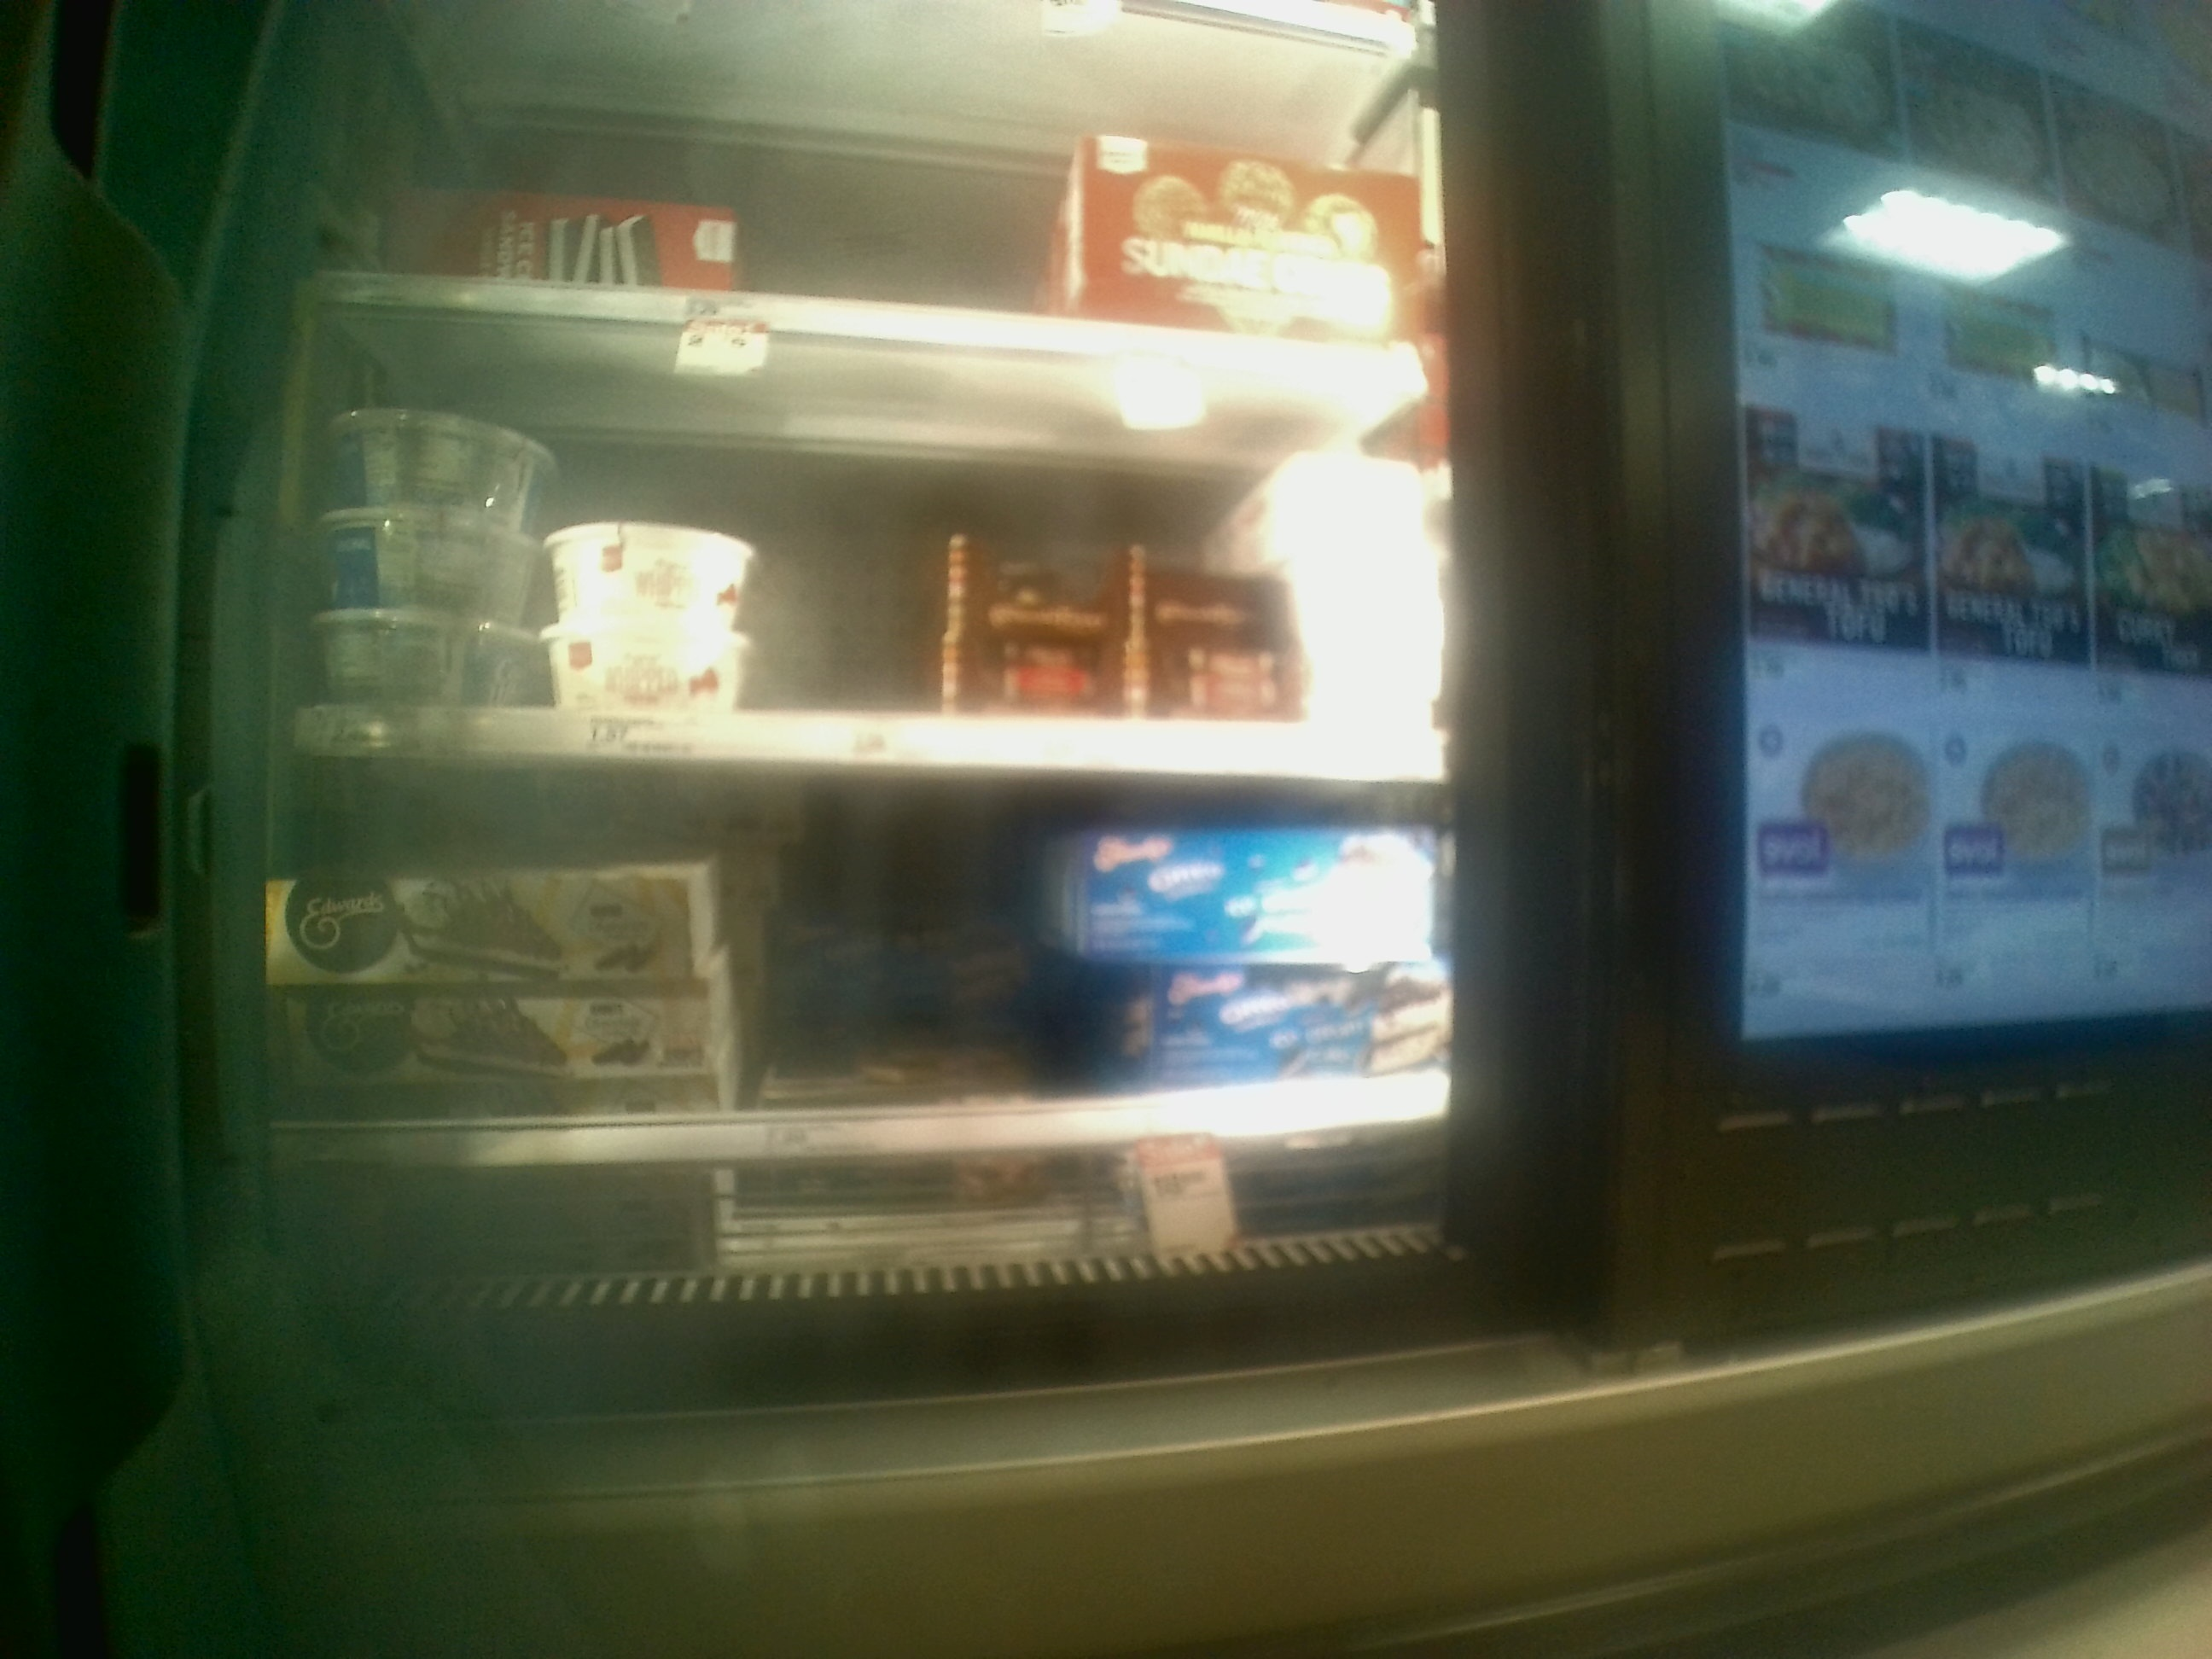shelf: (209, 763, 1458, 1236), (286, 307, 1460, 784)
